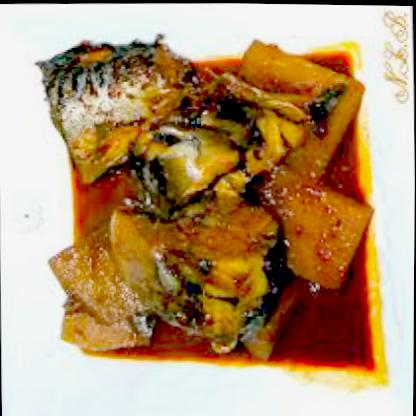stewed mackerel: (50, 39, 375, 369)
